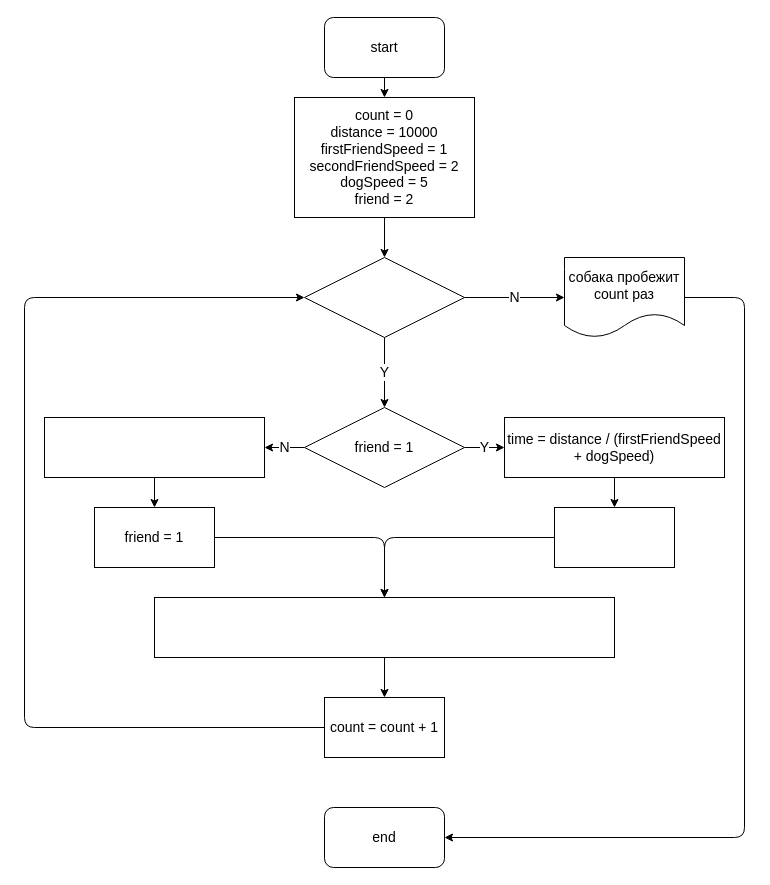
The diagram is 770 pixels wide and 885 high, and some of its shapes have lost their labels. Here are the shapes that lost their labels. From the top down, the centre of each, then its label:
At (x=384, y=297): "distance < 10000".
At (x=154, y=447): "time = distance / (secondFriendSpeed + dogSpeed)".
At (x=614, y=537): "friend = 2".
At (x=384, y=627): "distance = distance - ( firstFriendSpeed + secondFriendSpeed) * time".
